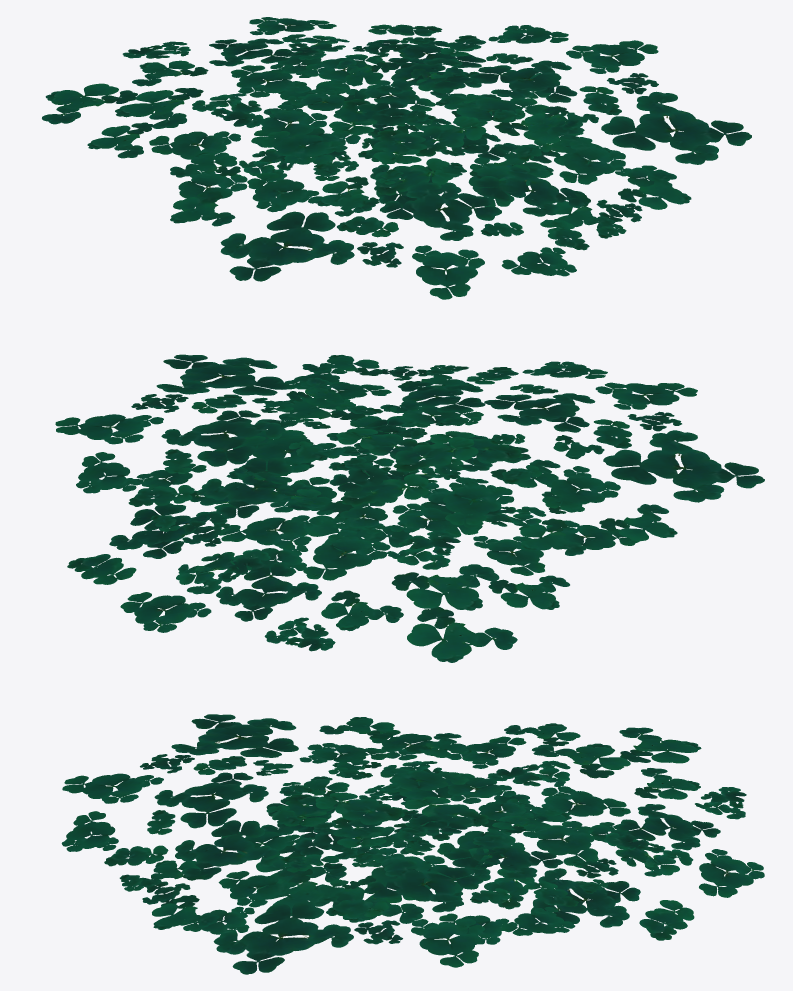
3 renders of one model, top to bottom at view 1: azimuth 30°, elevation 25°; view 2: azimuth 150°, elevation 25°; view 3: azimuth 270°, elevation 25°, orthographic. The views are drawn at different scales.
Visible parts, largest first — view 1: SM_BM_WoodlandsSorrel_01_A_LOD0; view 2: SM_BM_WoodlandsSorrel_01_A_LOD0; view 3: SM_BM_WoodlandsSorrel_01_A_LOD0.
Part boxes in pixels (left/top/right/bottom): SM_BM_WoodlandsSorrel_01_A_LOD0: left=42, top=17, right=751, bottom=299; SM_BM_WoodlandsSorrel_01_A_LOD0: left=55, top=354, right=764, bottom=662; SM_BM_WoodlandsSorrel_01_A_LOD0: left=61, top=714, right=764, bottom=974.
Size of the model in its own units: 1.2 by 0.1006 by 1.31.
1 material, 1 textured.
